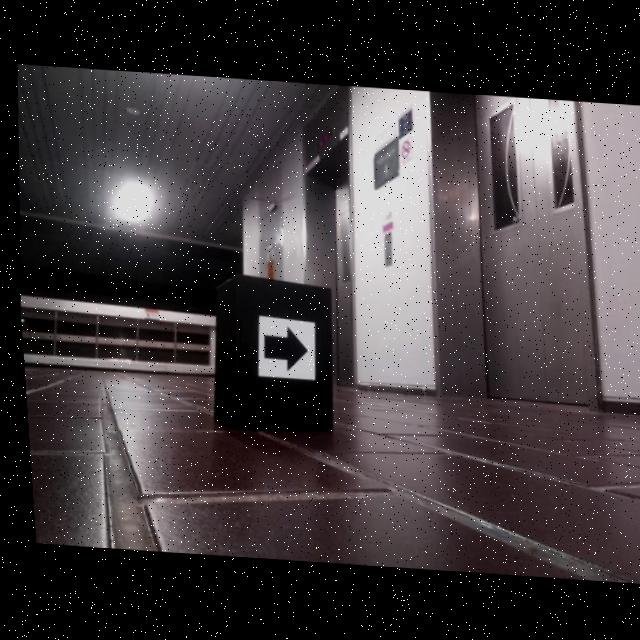RIGHT: (259, 325, 304, 369)
